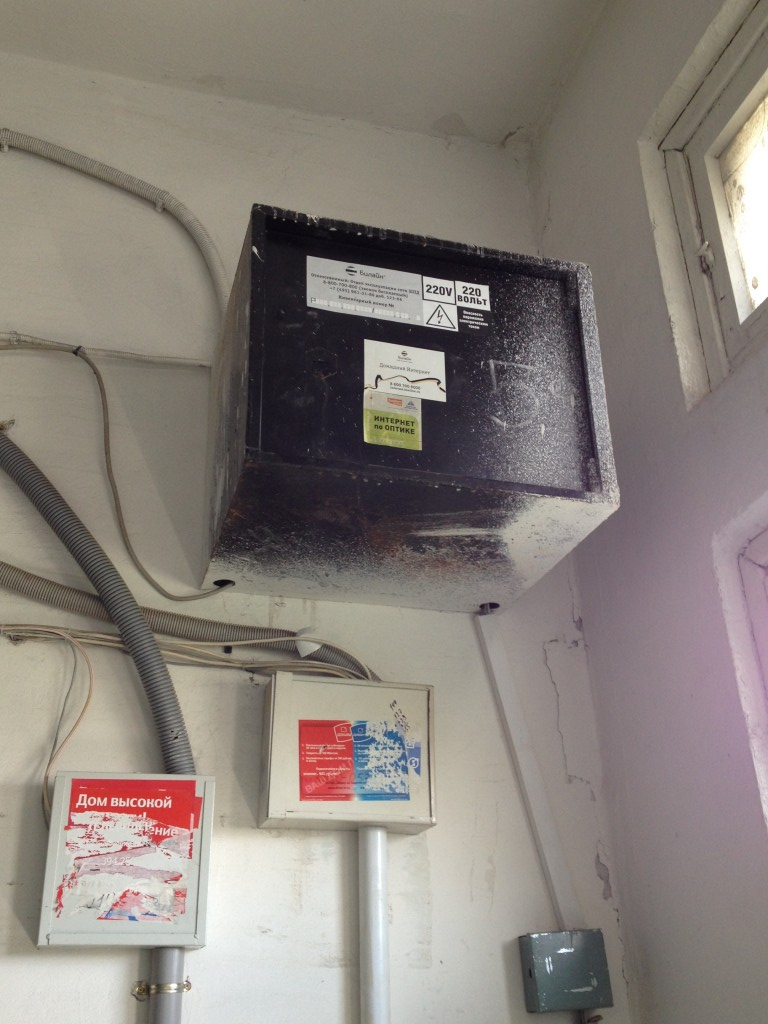shta-9m: (192, 200, 628, 624)
